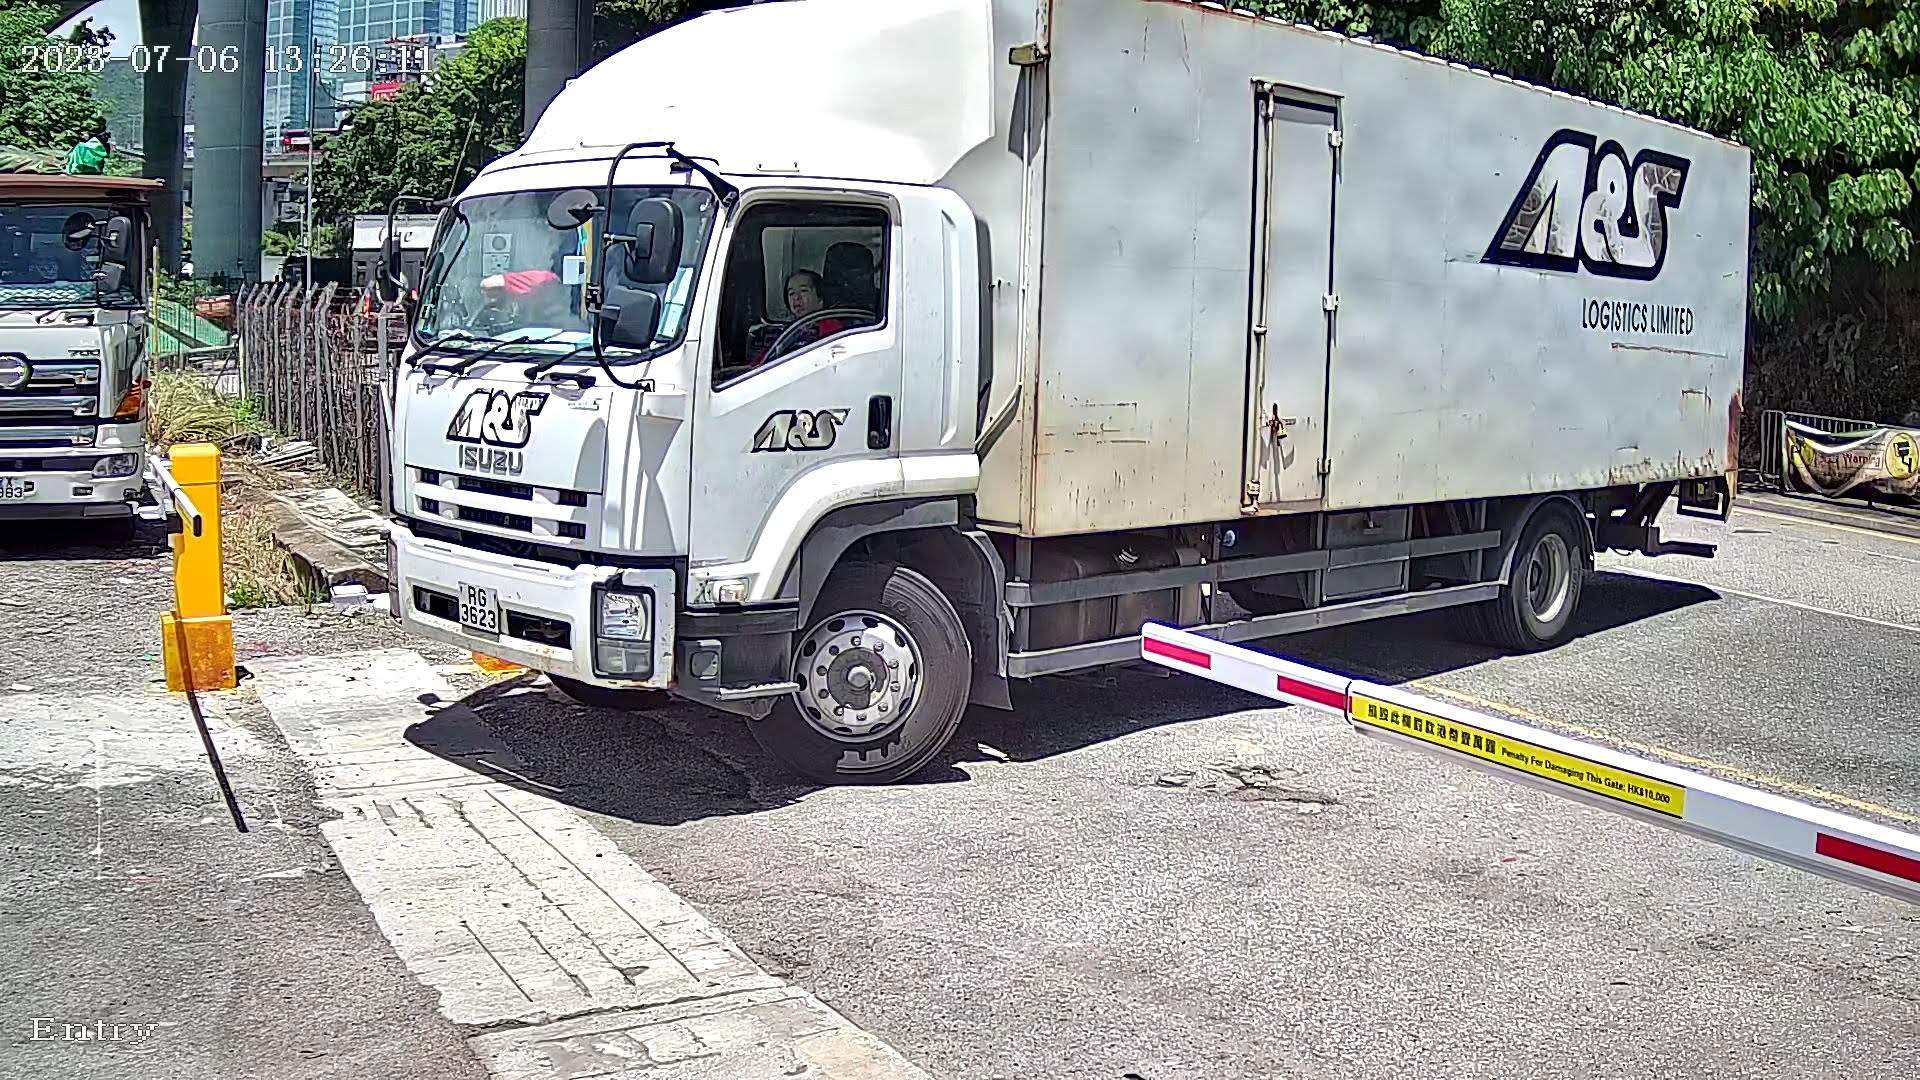truck_large: (369, 1, 1797, 791)
